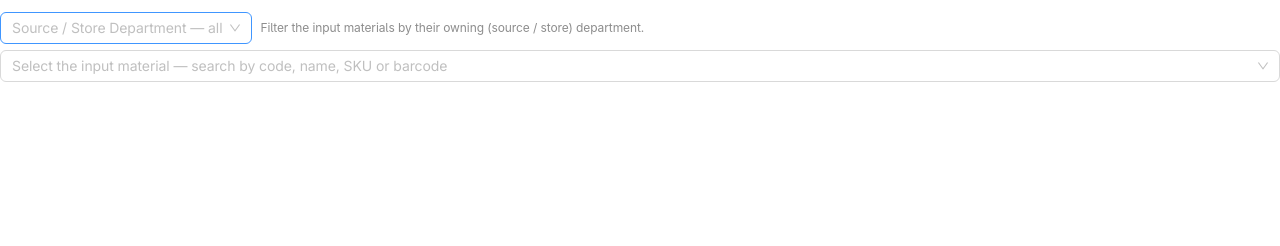
Test: TASK #34C — Item Master Production Input selector › A: loads the REAL Item Master dataset (not a fixed/sample list) via the items API
The width and height of the screenshot is (1280, 246).
Press the mouse on the dropdown named "Input Material Select" at (631, 66), box x1=12 y1=51 x2=1250 y2=81
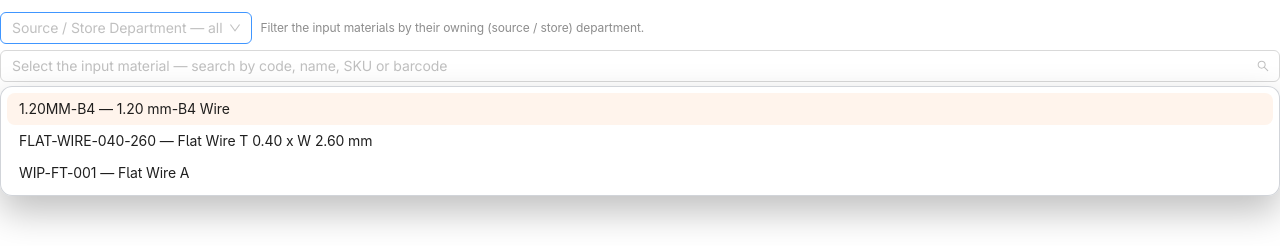
Check: the text "1.20MM-B4 — 1.20 mm-B4 Wire" is shown, box x1=19 y1=100 x2=230 y2=117
Check: the text "FLAT-WIRE-040-260 — Flat Wire T 0.40 x W 2.60 mm" is shown, box x1=19 y1=132 x2=372 y2=149
